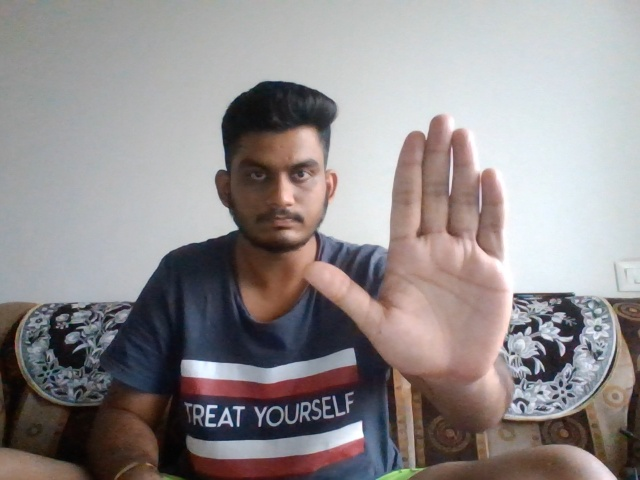Hello: (307, 115, 546, 380)
